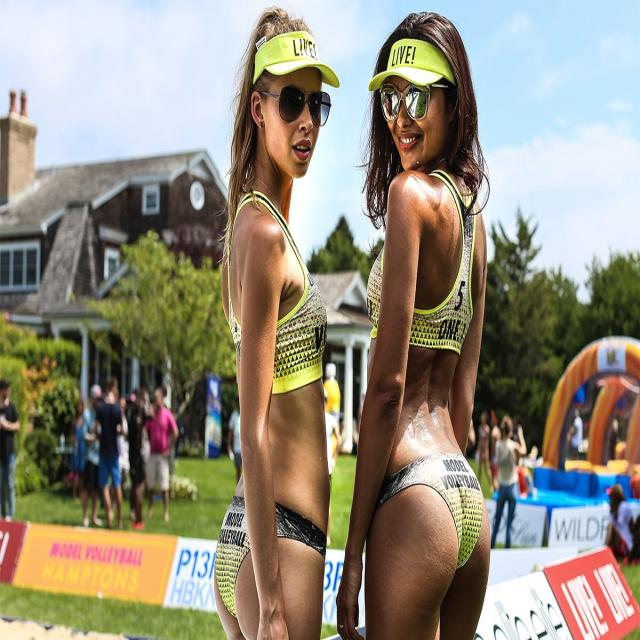body: (328, 4, 492, 638), (210, 7, 339, 640), (92, 373, 127, 532), (489, 414, 528, 551), (145, 381, 178, 519), (80, 384, 104, 527), (0, 376, 22, 524), (125, 394, 148, 532), (324, 390, 343, 547), (604, 485, 636, 559), (109, 394, 130, 506), (70, 397, 90, 501), (476, 410, 494, 495), (226, 396, 243, 485), (625, 474, 640, 566), (567, 406, 584, 460), (489, 413, 502, 459), (511, 413, 524, 444), (466, 416, 476, 448)
